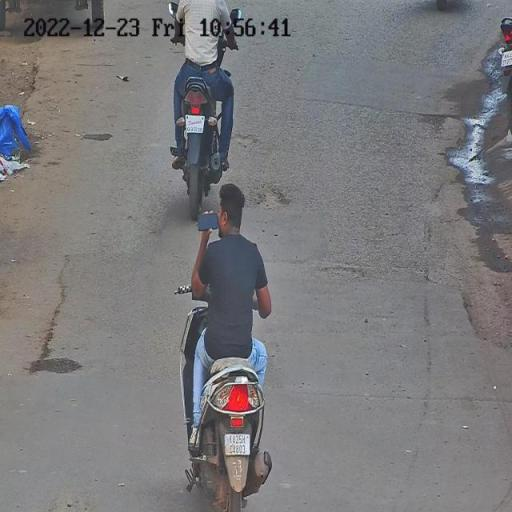numberplate: (224, 433, 250, 457)
using mobile: (194, 209, 222, 233)
